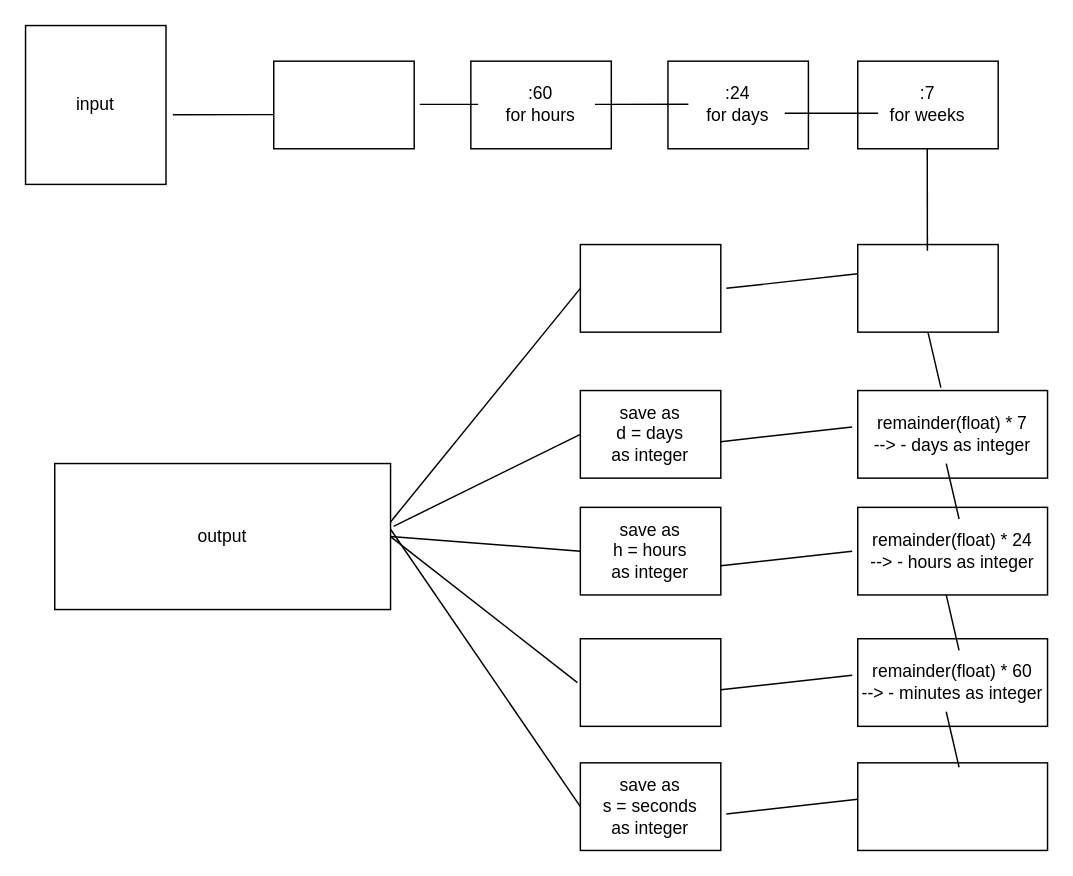
Image size: 1073x876. Some labels were removed from this diagram. The shapes that lost their labels are listed below. From the top down, each one's box as (x1, y1, x2, y2) in pixels, then its label:
(272, 60, 414, 149): :60 for min
(579, 243, 721, 332): save as w = weeks as integer
(856, 243, 998, 332): - weeks as integer
(579, 637, 721, 726): save as m = minutes as integer
(856, 761, 1048, 850): remainder(float) * 60 --> - seconds as integer
